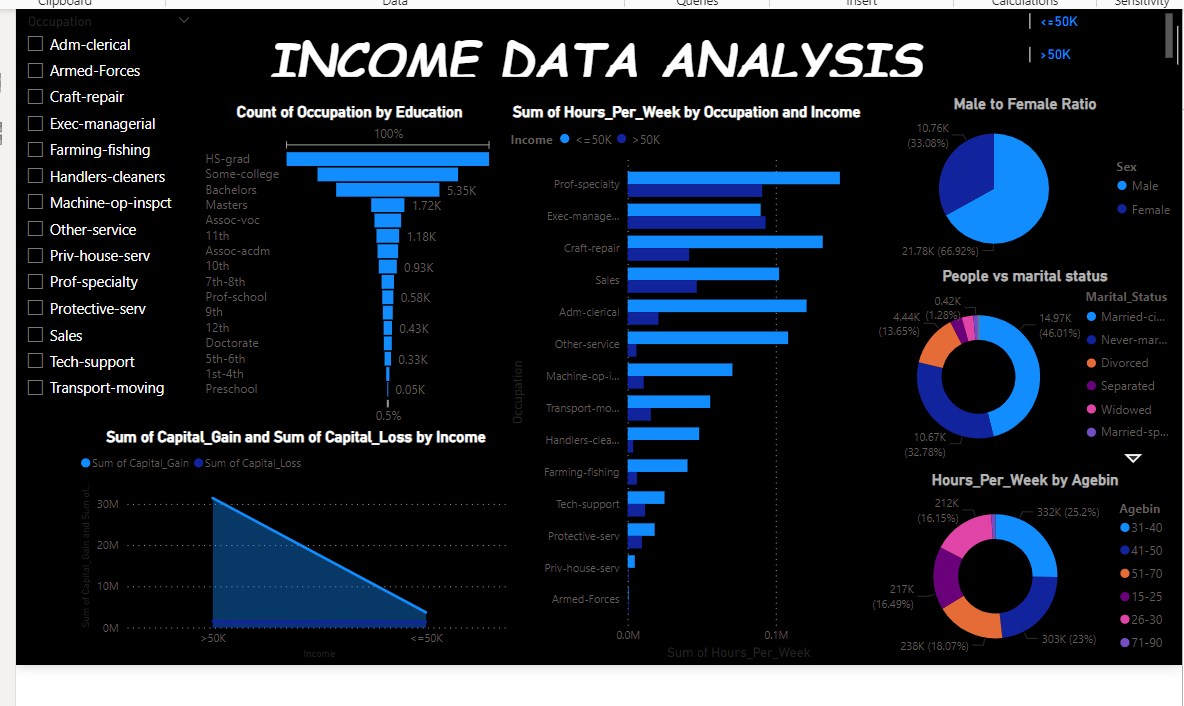

What the dashboard file says about the page in this screenshot:
{"tool":"powerbi","page":{"name":"Page 1","canvas":[1280,720],"ordinal":0},"visuals":[{"type":"textbox","box":[0,14.1,1280.7,65.6],"z":0},{"type":"pieChart","title":"Male to Female Ratio","fields":{"Category":["income_new.Sex"],"Y":["CountNonNull(income_new.WorkClass)"]},"box":[934,93.7,346.7,189],"z":1000},{"type":"donutChart","title":"People vs marital status","fields":{"Y":["CountNonNull(income_new.WorkClass)"],"Category":["income_new.Marital_Status"]},"box":[934,282.7,346.7,223.3],"z":2000},{"type":"slicer","fields":{"Values":["income_new.Occupation"]},"box":[0,0,203.3,460],"z":3000},{"type":"donutChart","title":"Hours_Per_Week by Agebin","fields":{"Category":["income_new.Agebin"],"Y":["Sum(income_new.Hours_Per_Week)"]},"box":[934,506,346.7,214],"z":4000},{"type":"areaChart","fields":{"Category":["income_new.Income"],"Y":["Sum(income_new.Capital_Gain)","Sum(income_new.Capital_Loss)"]},"box":[261.7,461.7,276.7,258.3],"z":5000},{"type":"multiRowCard","fields":{"Values":["income_new.Income"]},"box":[1107.3,0,167.1,70.3],"z":6000},{"type":"funnel","fields":{"Category":["income_new.Education"],"Y":["CountNonNull(income_new.Occupation)"]},"box":[203,103.1,326.4,357.7],"z":7000},{"type":"clusteredBarChart","fields":{"Category":["income_new.Occupation"],"Y":["Sum(income_new.Hours_Per_Week)"],"Series":["income_new.Income"]},"box":[538.3,103.3,396.7,616.7],"z":8000},{"type":"map","title":"Country vs Incone","fields":{"Category":["income_new.Native_Country"],"Series":["income_new.Income"]},"box":[0,460,261.7,260],"z":8001}]}

Visuals, with their boxes on the page's 1280x720 design canvas (x1, y1, x2, y2). These are canvas units, not pixel positions in the 1184x706 screenshot, which may show the page scaled, cropped or inside an application window:
textbox: (left=0, top=14, right=1281, bottom=80)
"Male to Female Ratio" pieChart: (left=934, top=94, right=1281, bottom=283)
"People vs marital status" donutChart: (left=934, top=283, right=1281, bottom=506)
slicer - income_new.Occupation: (left=0, top=0, right=203, bottom=460)
"Hours_Per_Week by Agebin" donutChart: (left=934, top=506, right=1281, bottom=720)
areaChart - income_new.Income x Sum(income_new.Capital_Gain): (left=262, top=462, right=538, bottom=720)
multiRowCard - income_new.Income: (left=1107, top=0, right=1274, bottom=70)
funnel - income_new.Education x CountNonNull(income_new.Occupation): (left=203, top=103, right=529, bottom=461)
clusteredBarChart - income_new.Occupation x Sum(income_new.Hours_Per_Week): (left=538, top=103, right=935, bottom=720)
"Country vs Incone" map: (left=0, top=460, right=262, bottom=720)
